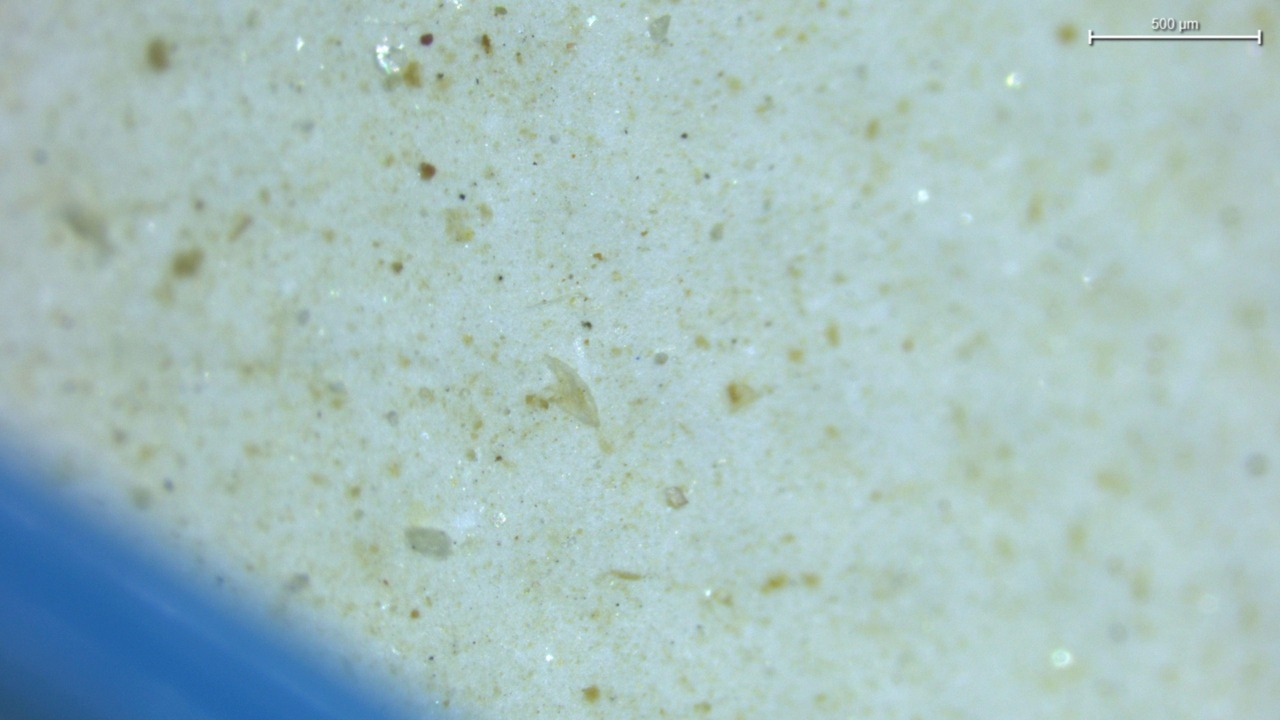microplastic_fragment: (525, 356, 599, 427), (405, 527, 452, 558), (663, 486, 688, 509)
